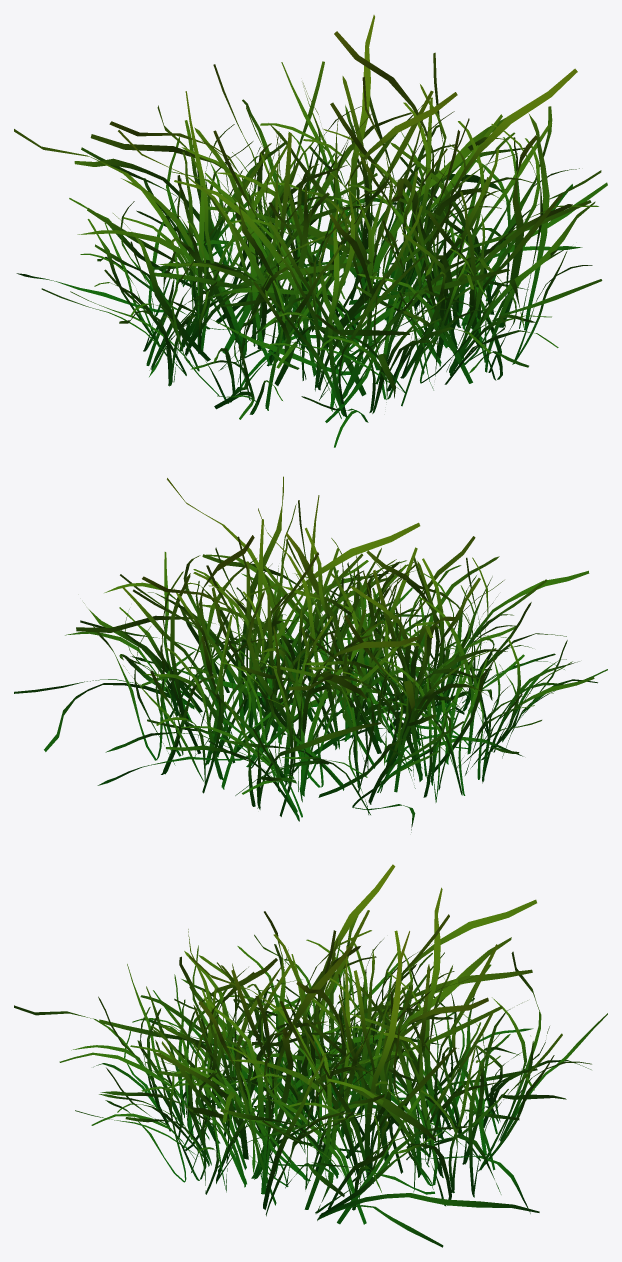
Rendered from grass_medium_01_0.glb.
The picture shows the model from 3 angles, top to bottom: view 1: azimuth 30°, elevation 25°; view 2: azimuth 150°, elevation 25°; view 3: azimuth 270°, elevation 25°; orthographic projection. The views are drawn at different scales.
Visible parts, largest first — view 1: grass_medium_01_large_a_LOD0; view 2: grass_medium_01_large_a_LOD0; view 3: grass_medium_01_large_a_LOD0.
Boxes of the visible parts, box(x1,y1,x2,y2) form: grass_medium_01_large_a_LOD0: box(14, 15, 607, 447); grass_medium_01_large_a_LOD0: box(14, 476, 607, 832); grass_medium_01_large_a_LOD0: box(14, 864, 607, 1247).
Size of the model in its own units: 0.317 by 0.1467 by 0.3266.
